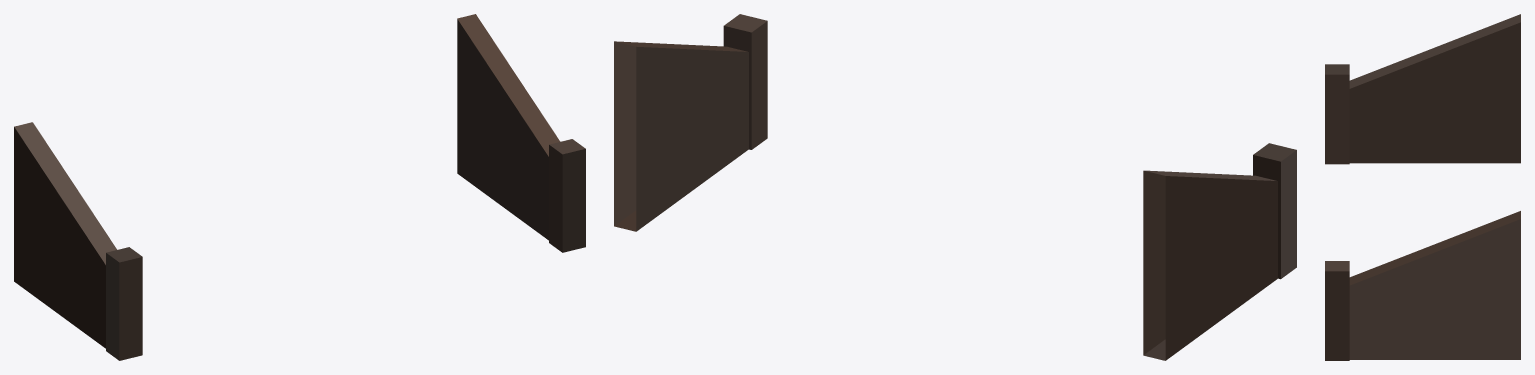
The model's file is Bridge-EndLOD2.fbx.
3 views of the same model, side by side, from view 1: azimuth 30°, elevation 25°; view 2: azimuth 150°, elevation 25°; view 3: azimuth 270°, elevation 25° (orthographic). The views are drawn at different scales.
Visible parts, largest first — view 1: Bridge-EndLOD2; view 2: Bridge-EndLOD2; view 3: Bridge-EndLOD2.
Boxes of the visible parts, bbox=[...] form: Bridge-EndLOD2: bbox=[14, 14, 585, 360]; Bridge-EndLOD2: bbox=[614, 14, 1296, 360]; Bridge-EndLOD2: bbox=[1325, 14, 1520, 360].
Bounding box in the file's own units: 500 × 159 × 200.
